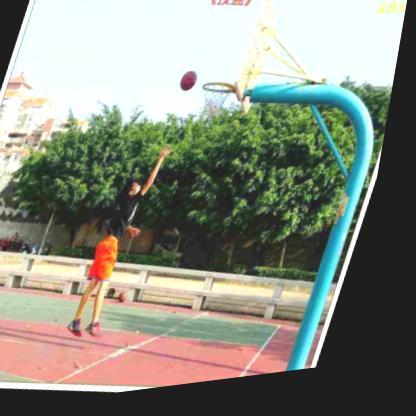basketball: (181, 74, 203, 98)
rim: (196, 84, 241, 131)
